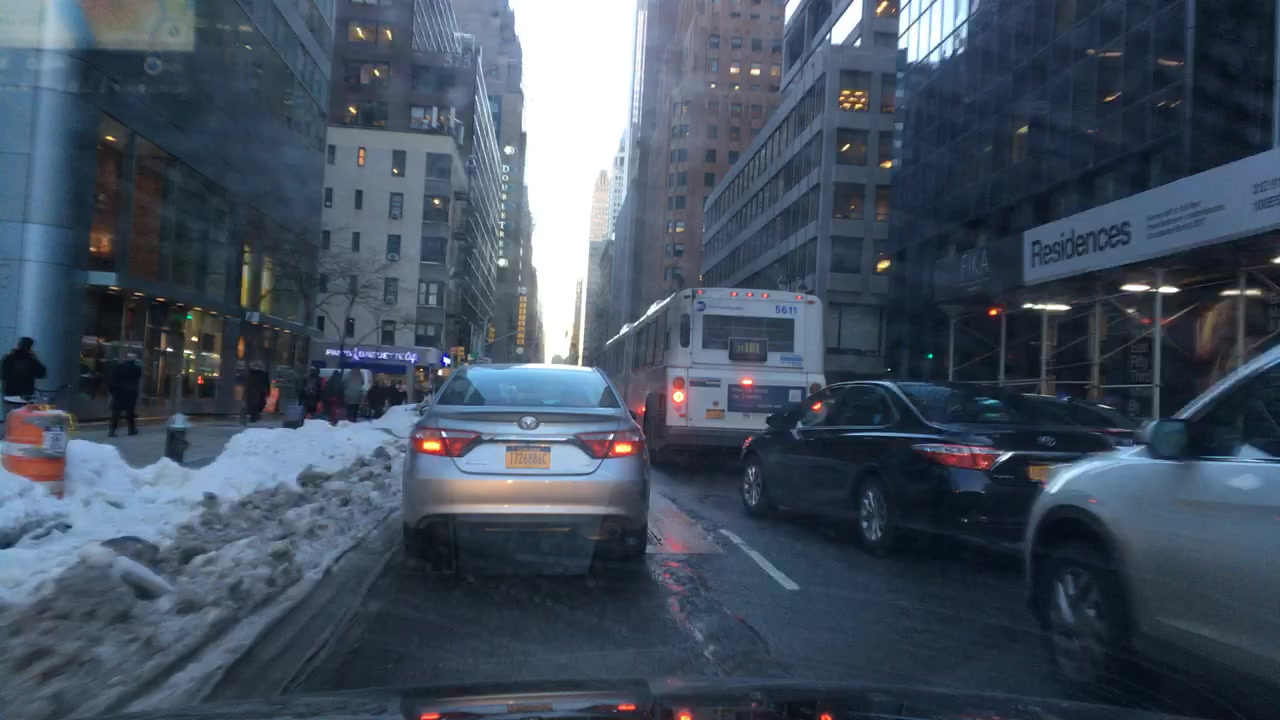licence: (503, 445, 553, 472)
